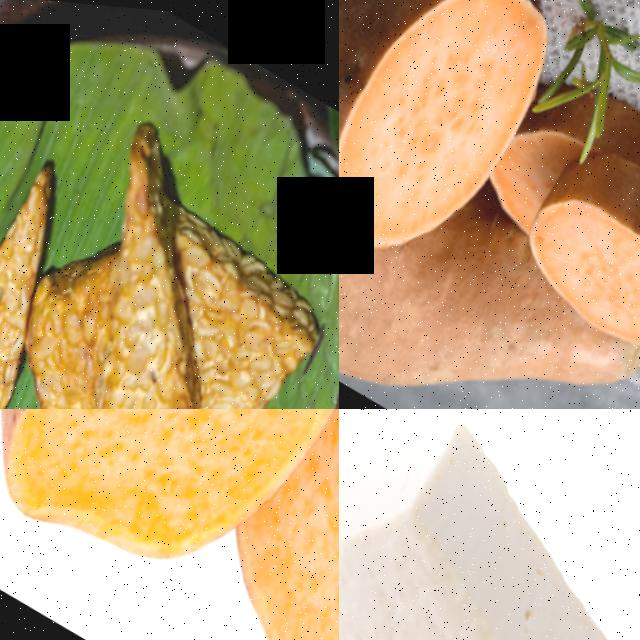sweet potato: (0, 409, 339, 640), (339, 0, 576, 294), (339, 110, 484, 409), (399, 240, 640, 409), (184, 409, 339, 640), (505, 144, 640, 375)
tempeh: (56, 198, 323, 409), (0, 158, 83, 409)
tofu: (339, 409, 640, 640)
